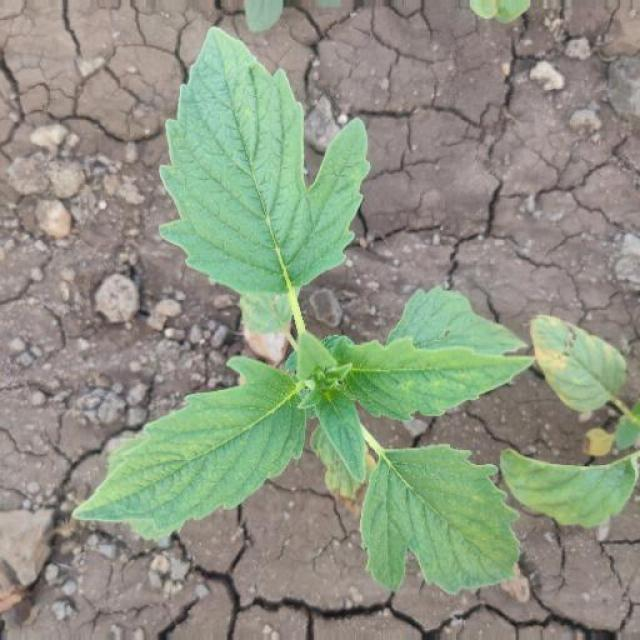crop: (59, 9, 546, 604)
